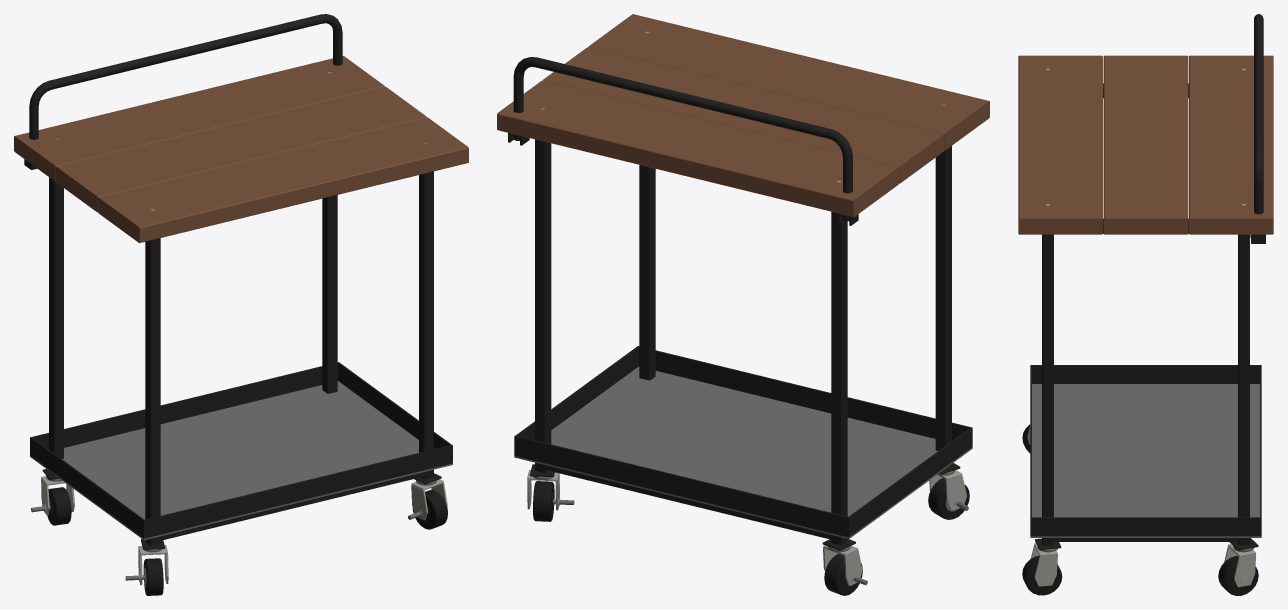
Rendered from main-record-trolley-a4fad9adaece.glb.
The picture shows the model from 3 angles, left to right: view 1: azimuth 30°, elevation 25°; view 2: azimuth 150°, elevation 25°; view 3: azimuth 270°, elevation 25°; orthographic projection. The views are drawn at different scales.
Visible parts, largest first — view 1: wood-coffee, enamel-black, metal, rubber-foot, brushed; view 2: wood-coffee, enamel-black, metal, rubber-foot, brushed; view 3: wood-coffee, metal, enamel-black, brushed, rubber-foot.
Part boxes in pixels (bbox=[...]): wood-coffee: bbox=[14, 56, 468, 242]; enamel-black: bbox=[24, 14, 452, 549]; metal: bbox=[30, 381, 452, 587]; rubber-foot: bbox=[47, 487, 447, 595]; brushed: bbox=[41, 72, 447, 585]; wood-coffee: bbox=[497, 14, 989, 216]; enamel-black: bbox=[508, 57, 972, 585]; metal: bbox=[514, 366, 972, 585]; rubber-foot: bbox=[533, 478, 969, 595]; brushed: bbox=[527, 31, 966, 585]; wood-coffee: bbox=[1018, 55, 1273, 234]; metal: bbox=[1030, 384, 1261, 552]; enamel-black: bbox=[1030, 14, 1265, 587]; brushed: bbox=[1027, 68, 1256, 587]; rubber-foot: bbox=[1022, 424, 1258, 595].
Size of the model in its own units: 0.65 by 0.82 by 0.43.
